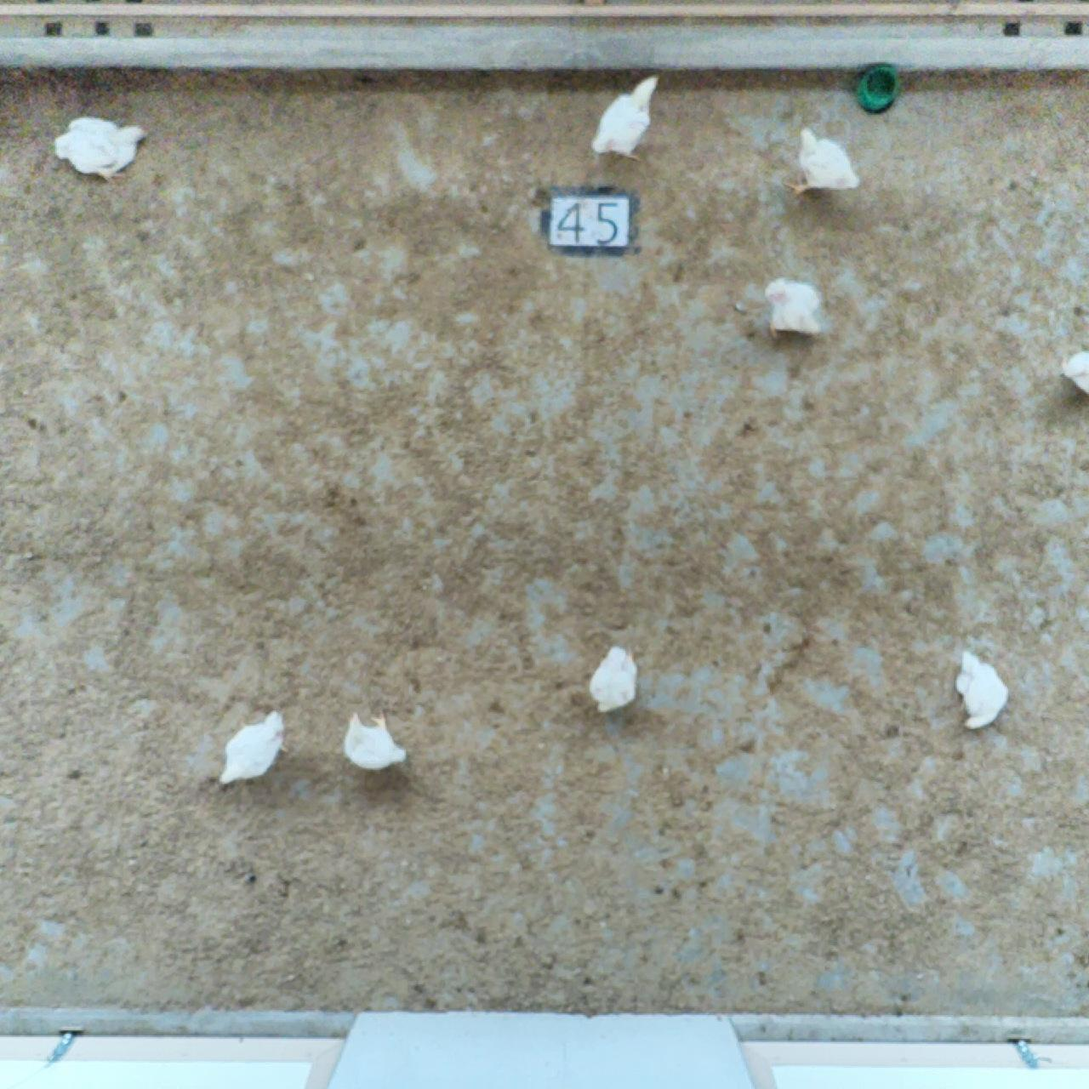chicken: (745, 252, 841, 361), (46, 109, 151, 195), (585, 69, 668, 176), (215, 701, 301, 799), (576, 641, 668, 730), (948, 640, 1016, 745), (792, 126, 858, 221), (332, 714, 412, 789), (1042, 340, 1089, 404)
